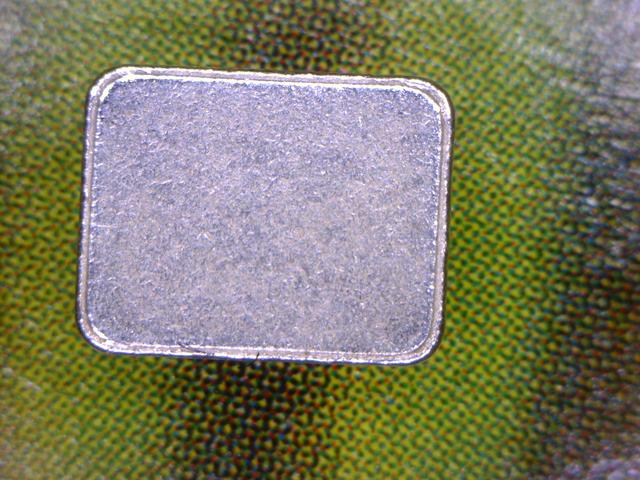nok: (71, 64, 455, 373)
